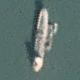ship: (0, 0, 20, 35)
